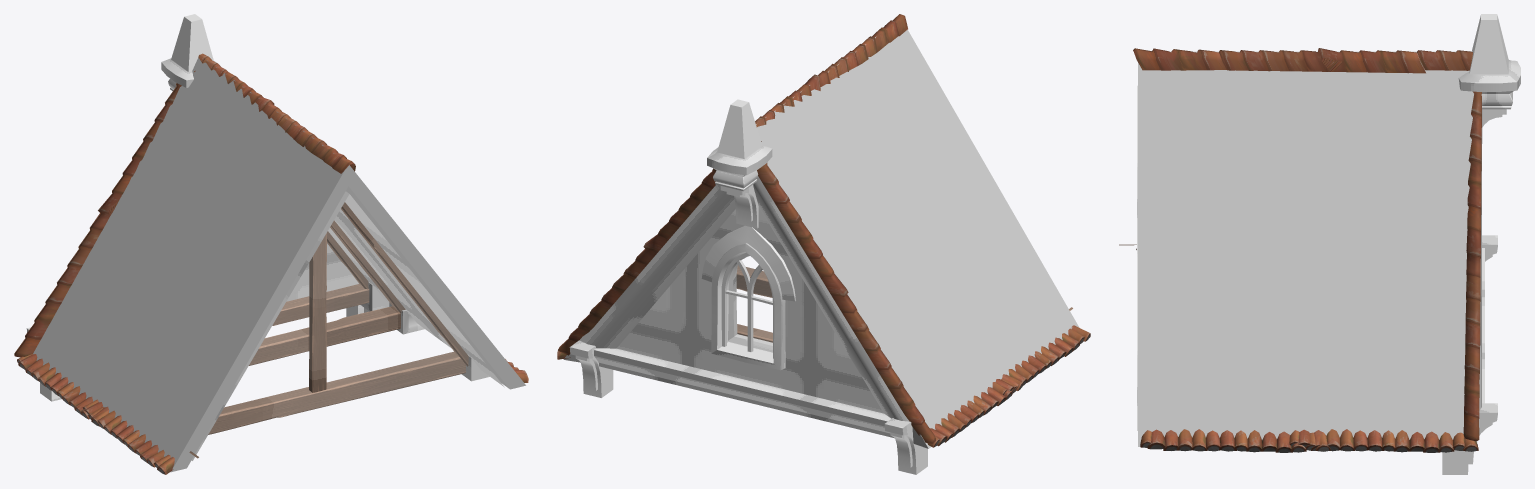
The model's file is SM_BlacksmithS_Roof_Module_A.fbx.
3 views of the same model, side by side, from view 1: azimuth 30°, elevation 25°; view 2: azimuth 150°, elevation 25°; view 3: azimuth 270°, elevation 25° (orthographic). The views are drawn at different scales.
Parts seen in each view (by area): view 1: SM_BlacksmithS_Roof_Module_A_LOD0; view 2: SM_BlacksmithS_Roof_Module_A_LOD0; view 3: SM_BlacksmithS_Roof_Module_A_LOD0.
Boxes of the visible parts, x1,y1,x2,y2 form: SM_BlacksmithS_Roof_Module_A_LOD0: (14,14,528,474); SM_BlacksmithS_Roof_Module_A_LOD0: (557,14,1090,474); SM_BlacksmithS_Roof_Module_A_LOD0: (1119,14,1520,474).
Size of what is drawn, in the model's own units: 8.48 by 7.17 by 7.06.
